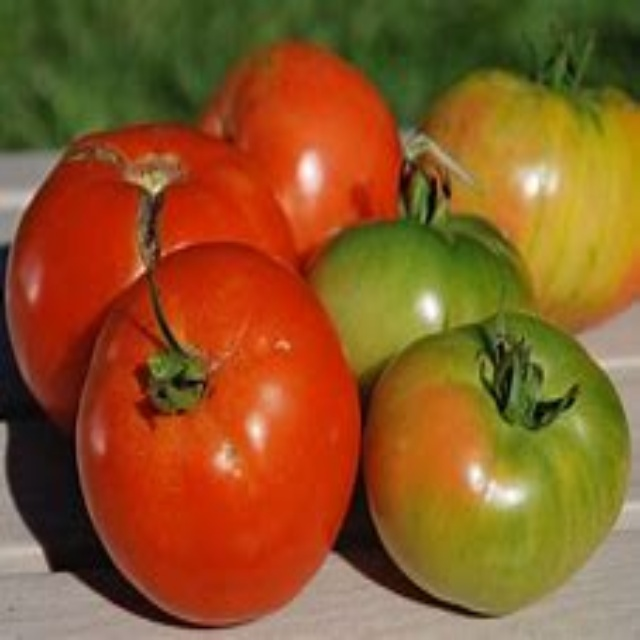tomato: (88, 249, 358, 623), (0, 135, 292, 430), (375, 319, 625, 614), (419, 68, 639, 330), (193, 47, 397, 246), (309, 225, 547, 369)
